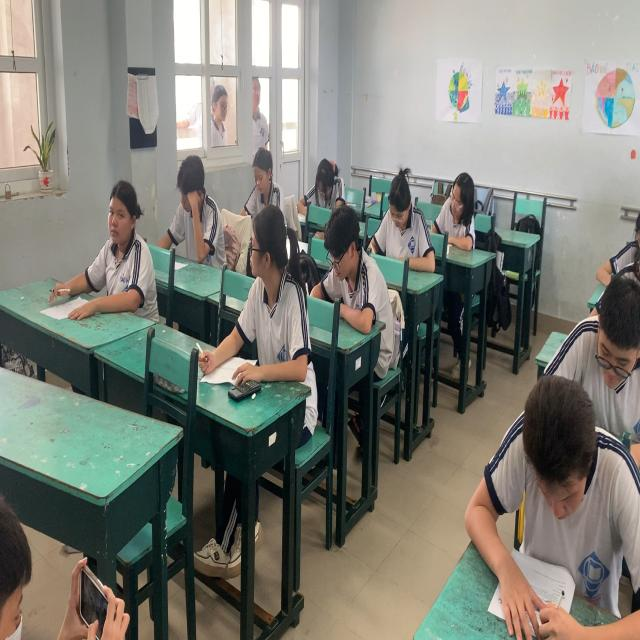cheating: (208, 212, 318, 450)
not_cheating: (433, 392, 640, 560), (40, 146, 164, 368), (284, 205, 382, 405), (152, 113, 244, 294), (563, 320, 640, 496), (350, 178, 436, 331), (411, 126, 497, 274), (226, 126, 312, 270), (282, 112, 364, 252), (599, 258, 640, 438)
